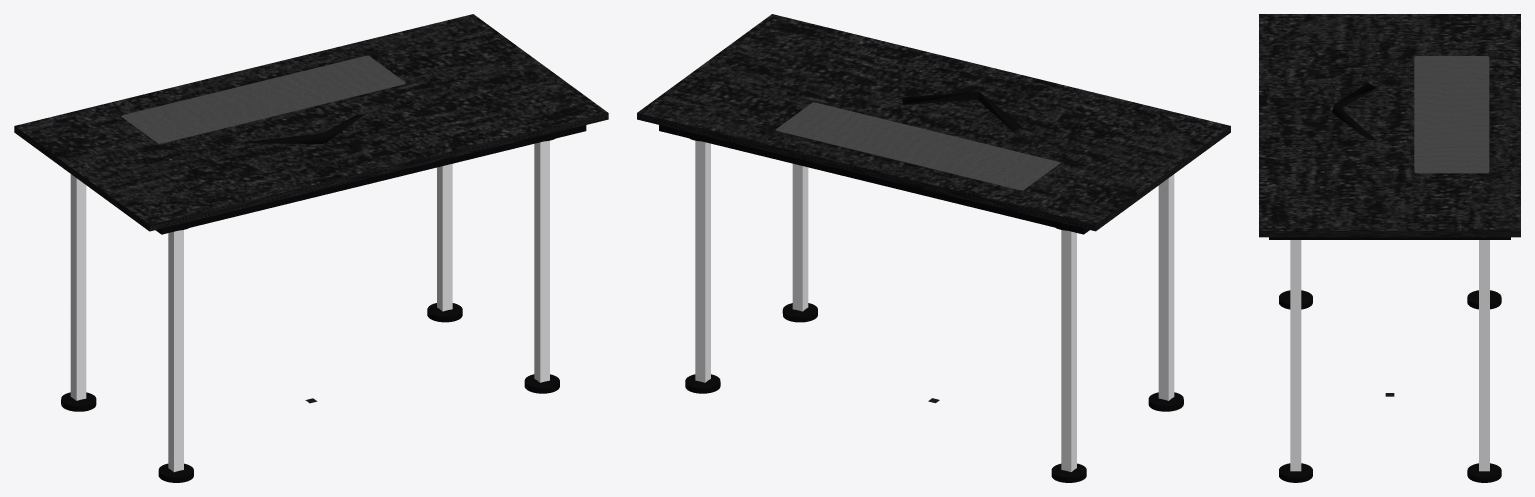
The model's file is desk.glb.
3 renders of one model, left to right at view 1: azimuth 30°, elevation 25°; view 2: azimuth 150°, elevation 25°; view 3: azimuth 270°, elevation 25°, orthographic. The views are drawn at different scales.
Parts seen in each view (by area): view 1: Kubus.001_10, Plane.001_49, Cube.002_3, Cube_0, Cube.003_4, Kubus_5, Cube.001_2; view 2: Kubus.001_10, Plane.001_49, Cube.003_4, Cube.001_2, Cube.002_3, Kubus_5, Cube_0, Cube.005_34; view 3: Kubus.001_10, Plane.001_49, Cube_0, Cube.001_2, Kubus_5, Silinder.004_11, Silinder.006_13, Silinder.005_12, Cube.005_34, Silinder.007_14, Cube.006_35.
Part boxes in pixels (x1,y1,x2,y2): Kubus.001_10: (14, 14, 608, 231); Plane.001_49: (121, 55, 405, 143); Cube.002_3: (168, 230, 183, 472); Cube_0: (534, 140, 549, 382); Cube.003_4: (70, 174, 86, 400); Kubus_5: (155, 125, 586, 234); Cube.001_2: (437, 164, 452, 311); Kubus.001_10: (637, 14, 1230, 231); Plane.001_49: (775, 102, 1060, 190); Cube.003_4: (1061, 230, 1076, 471); Cube.001_2: (695, 140, 710, 382); Cube.002_3: (1158, 174, 1174, 400); Kubus_5: (659, 125, 1089, 234); Cube_0: (792, 163, 808, 311); Cube.005_34: (902, 91, 979, 104); Kubus.001_10: (1259, 14, 1520, 237); Plane.001_49: (1414, 56, 1489, 173); Cube_0: (1290, 240, 1301, 471); Cube.001_2: (1479, 240, 1489, 471); Kubus_5: (1269, 237, 1510, 239); Silinder.004_11: (1279, 463, 1312, 482); Silinder.006_13: (1467, 463, 1501, 482); Silinder.005_12: (1279, 290, 1312, 309); Cube.005_34: (1332, 103, 1375, 140); Silinder.007_14: (1467, 290, 1501, 309); Cube.006_35: (1332, 83, 1376, 109).
Bounding box in the file's own units: 16.29 × 9.92 × 8.31.
Materials: 5 (2 with a texture image).
